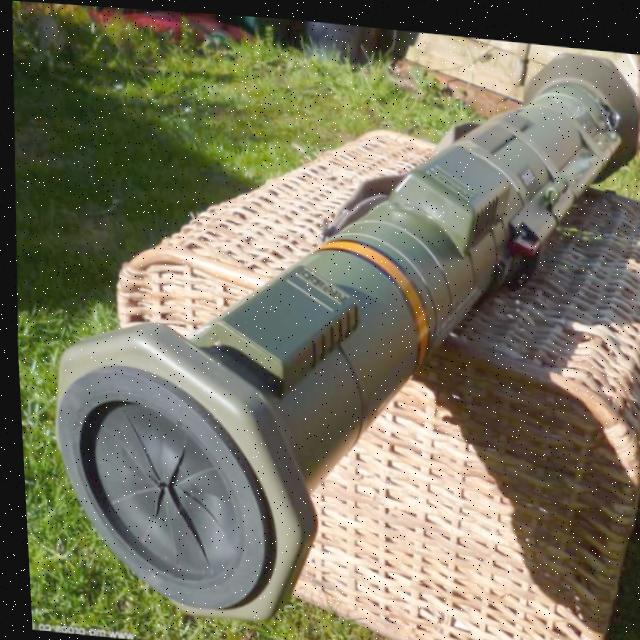rocket: (15, 1, 640, 640)
